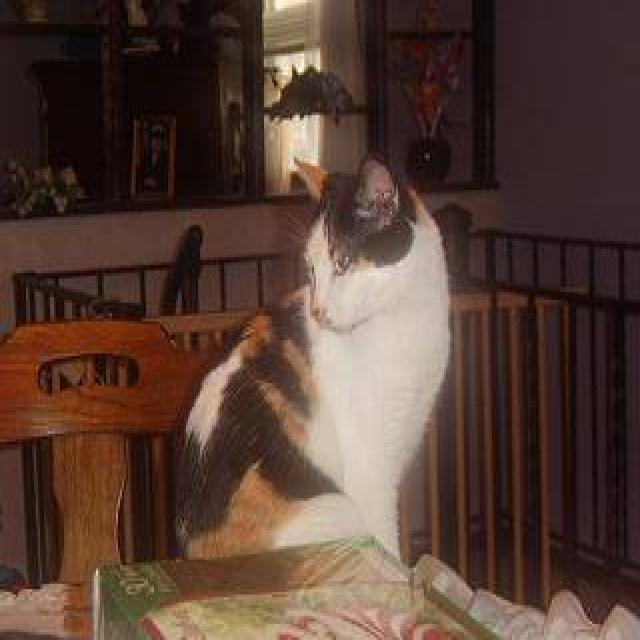cat: (146, 150, 488, 617)
